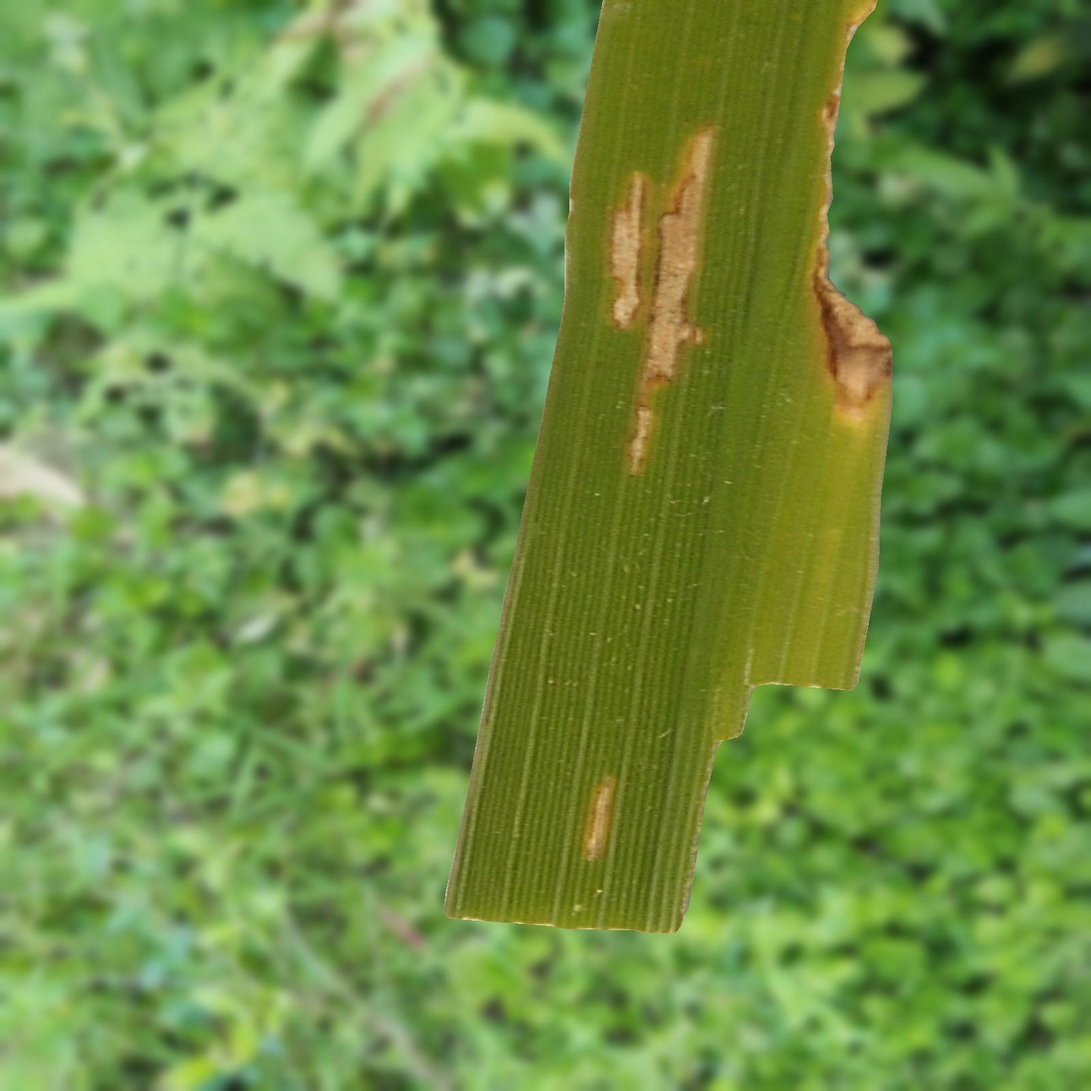BLS: (638, 127, 714, 413), (610, 173, 646, 329), (582, 776, 616, 862), (627, 424, 646, 473)
LEAF: (443, 0, 892, 933)
